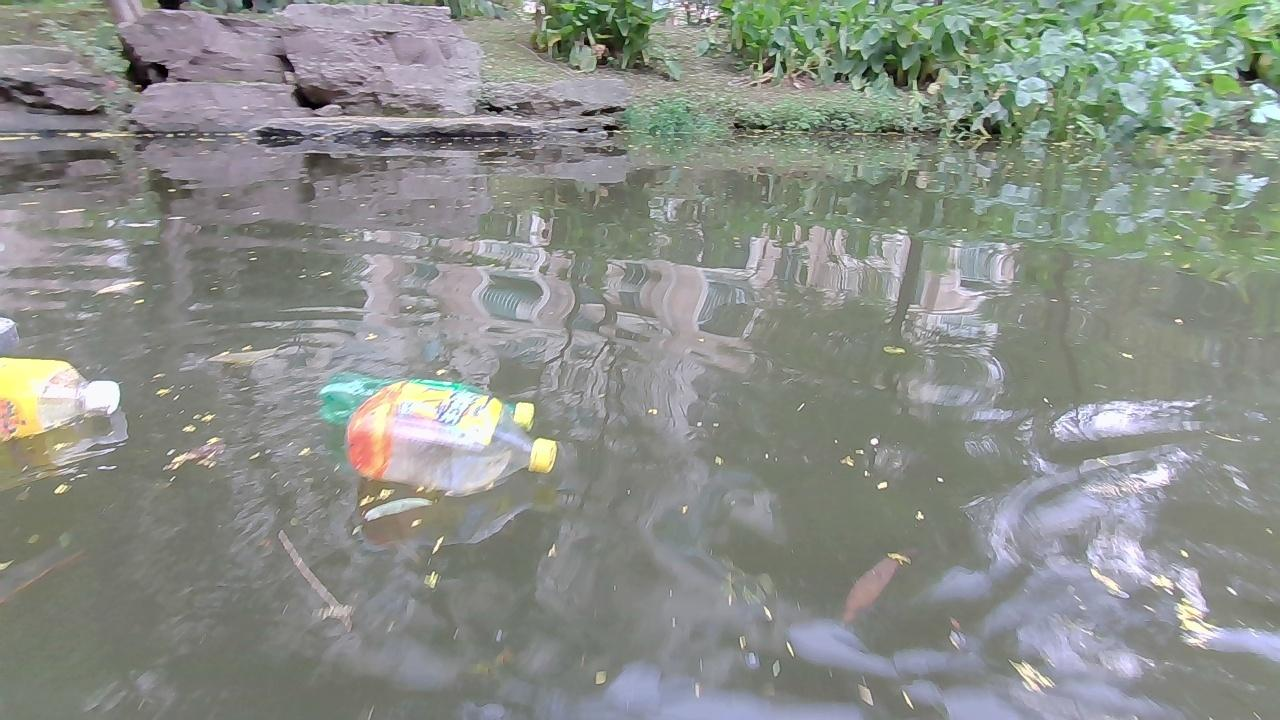bottle: (341, 384, 557, 480), (316, 367, 540, 430), (0, 356, 121, 436)
